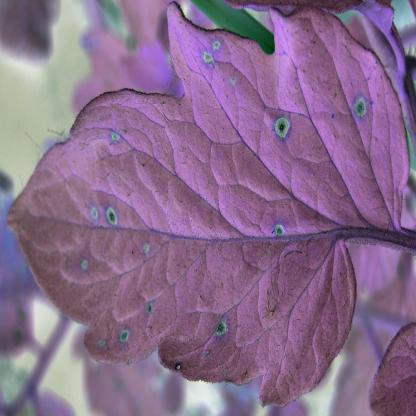Tomato leaf bacterial spot: (5, 1, 409, 399)
